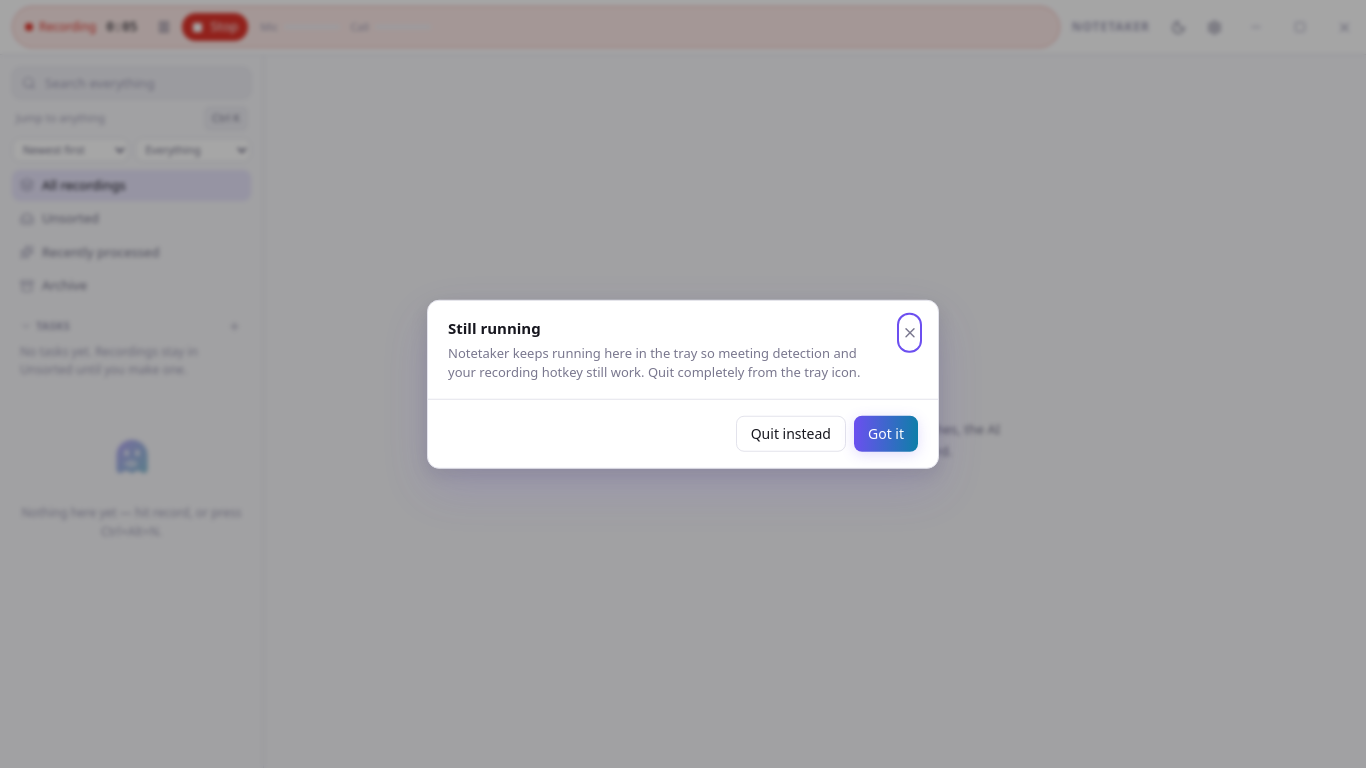
Test: closing the window, the tray menu, and the OS-wide shell › will not let the tray note's Quit instead end a live recording
Expected: the heading "Still running" is shown, [448,318,541,338]
Click the button "Quit instead": (791, 433) [736,415,846,451]
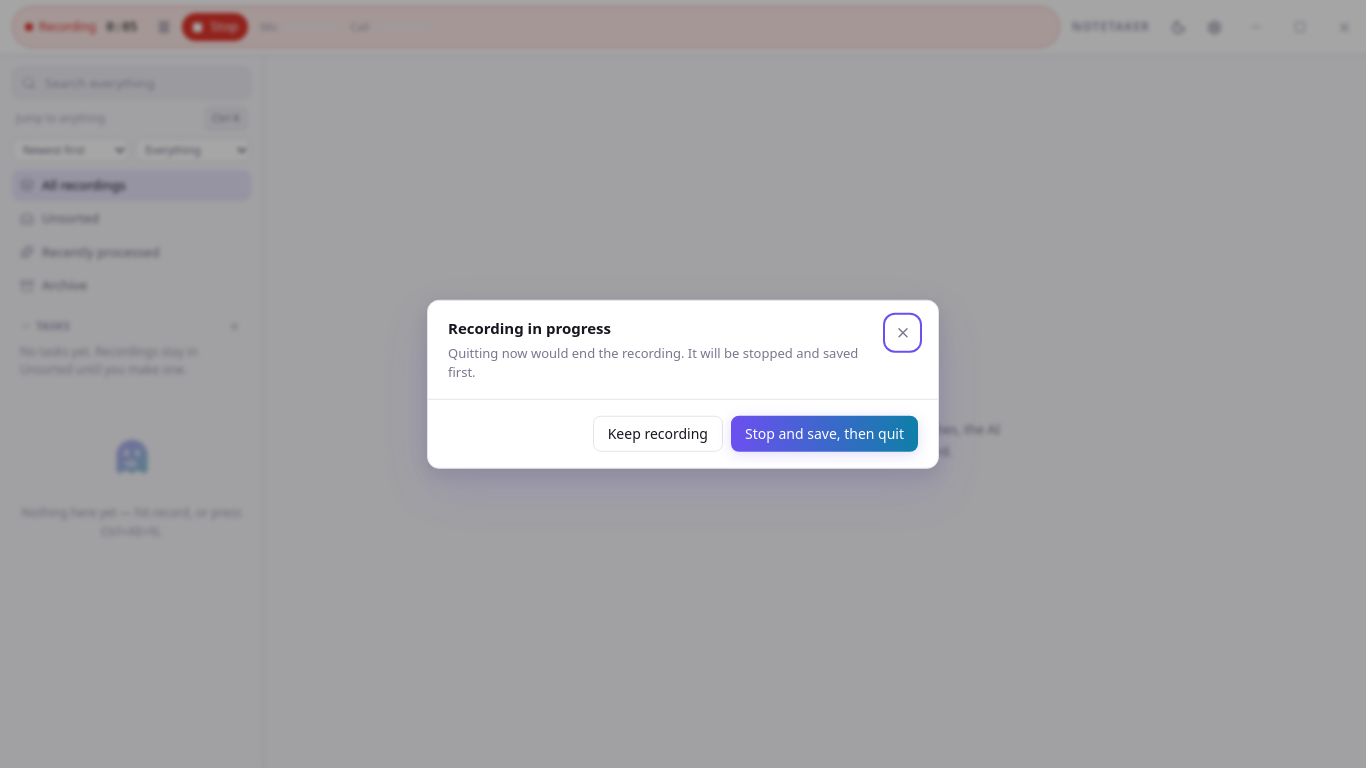
Expected: the heading "Recording in progress" is shown, [448,318,611,338]
